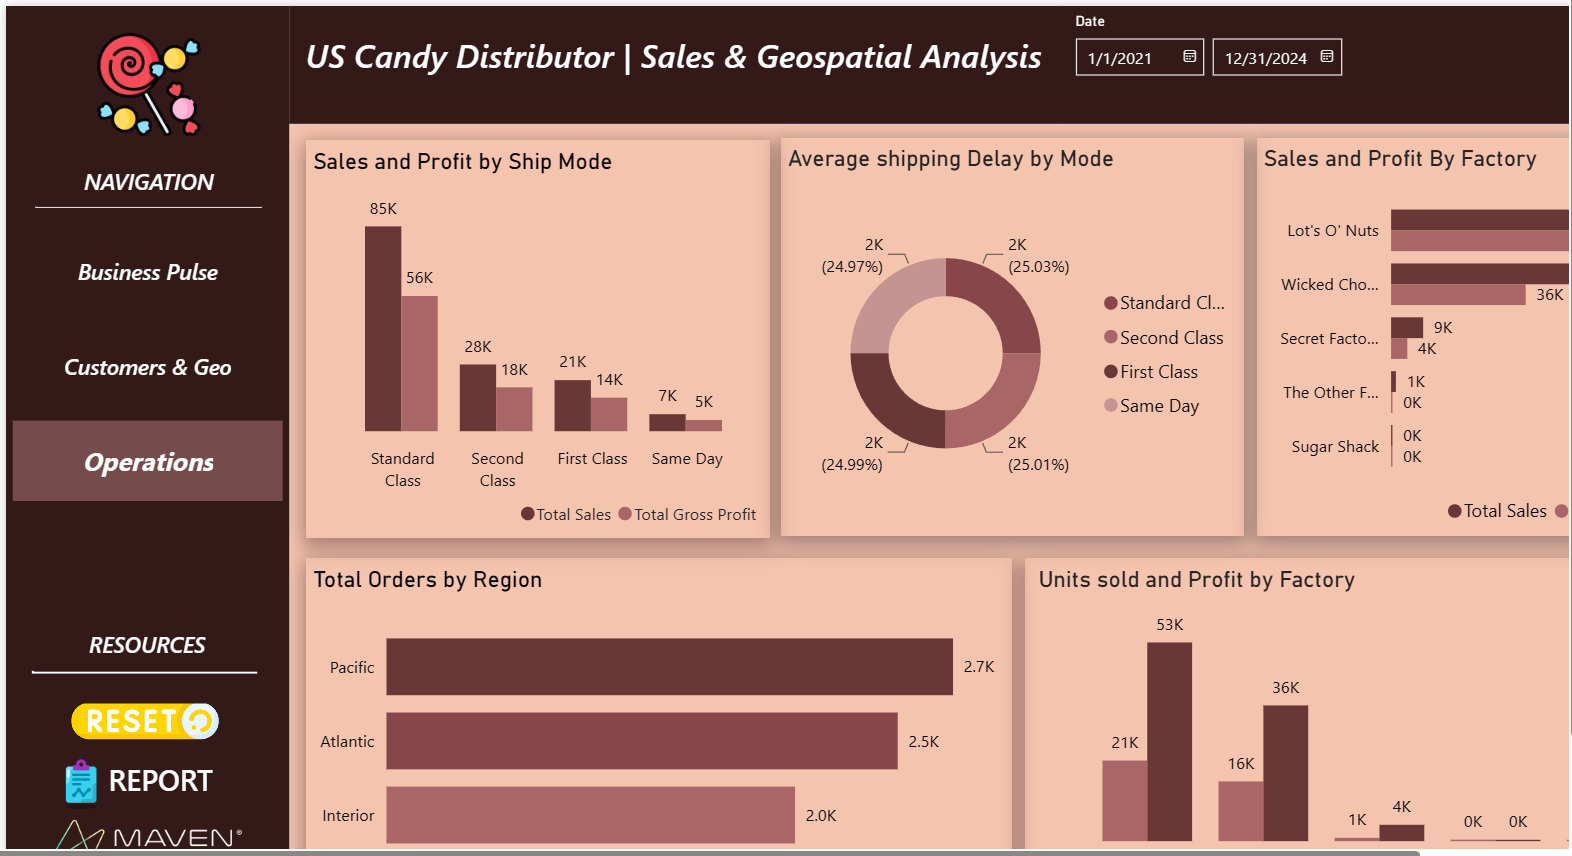

Layout of this report page (visuals, bound fields, positions):
{"tool":"powerbi","page":{"name":"Operations","canvas":[1280,720],"ordinal":2},"visuals":[{"type":"shape","box":[210.1,0,1069.9,87],"z":0},{"type":"shape","box":[0,0,210,720.5],"z":1000},{"type":"image","box":[43.2,649.6,120.1,39.6],"z":2000},{"type":"image","box":[33.6,596.8,141.7,43.2],"z":3000},{"type":"textbox","box":[70.8,553.5,104.5,40.8],"z":4000},{"type":"image","box":[40.8,557.1,30,37.2],"z":5000},{"type":"image","box":[48,516.3,109.3,26.4],"z":6000},{"type":"shape","box":[19.2,487.5,166.9,12],"z":7000},{"type":"textbox","box":[20.9,457,167.4,36],"z":8000},{"type":"pageNavigator","box":[4.8,166.9,200.5,200.5],"z":9000},{"type":"shape","box":[21.6,142.9,168.1,12],"z":10000},{"type":"textbox","box":[21.6,114.1,168.1,34.8],"z":11000},{"type":"image","box":[64.8,20.4,81.7,76.8],"z":12000},{"type":"textbox","box":[210.1,0,569,87],"z":13000},{"type":"slicer","fields":{"Values":["Calendar.Date"]},"box":[779.1,0,500.9,87],"z":14000},{"type":"donutChart","title":"Average shipping Delay by Mode","fields":{"Category":["Candy_Sales.Ship Mode"],"Y":["Measure.Avg Delay (Days)"]},"box":[574.4,97.7,343,295.3],"z":15000},{"type":"clusteredColumnChart","title":"Sales and Profit by Ship Mode","fields":{"Category":["Candy_Sales.Ship Mode"],"Y":["Measure.Total Sales","Measure.Total Gross Profit"]},"box":[222.3,98.8,343,295],"z":16000},{"type":"barChart","title":"Total Orders by Region","fields":{"Category":["Candy_Sales.Region"],"Y":["Measure.Total Orders"]},"box":[222.3,408.9,522.8,295],"z":18000},{"type":"clusteredColumnChart","title":"Units sold and Profit by Factory","fields":{"Y":["Measure.Total Units","Measure.Total Gross Profit"],"Category":["Candy_Products.Factory"]},"box":[754.7,408.9,514.6,295],"z":19000},{"type":"clusteredBarChart","title":"Sales and Profit By Factory","fields":{"Y":["Measure.Total Sales","Measure.Total Gross Profit"],"Category":["Candy_Products.Factory"]},"box":[926.7,97.7,343,295.3],"z":20000}]}

Visuals, with their boxes on the page's 1280x720 design canvas (x1, y1, x2, y2). These are canvas units, not pixel positions in the 1572x856 screenshot, which may show the page scaled, cropped or inside an application window:
shape: l=210, t=0, r=1280, b=87
shape: l=0, t=0, r=210, b=720
image: l=43, t=650, r=163, b=689
image: l=34, t=597, r=175, b=640
textbox: l=71, t=554, r=175, b=594
image: l=41, t=557, r=71, b=594
image: l=48, t=516, r=157, b=543
shape: l=19, t=488, r=186, b=500
textbox: l=21, t=457, r=188, b=493
pageNavigator: l=5, t=167, r=205, b=367
shape: l=22, t=143, r=190, b=155
textbox: l=22, t=114, r=190, b=149
image: l=65, t=20, r=146, b=97
textbox: l=210, t=0, r=779, b=87
slicer - Calendar.Date: l=779, t=0, r=1280, b=87
"Average shipping Delay by Mode" donutChart: l=574, t=98, r=917, b=393
"Sales and Profit by Ship Mode" clusteredColumnChart: l=222, t=99, r=565, b=394
"Total Orders by Region" barChart: l=222, t=409, r=745, b=704
"Units sold and Profit by Factory" clusteredColumnChart: l=755, t=409, r=1269, b=704
"Sales and Profit By Factory" clusteredBarChart: l=927, t=98, r=1270, b=393
